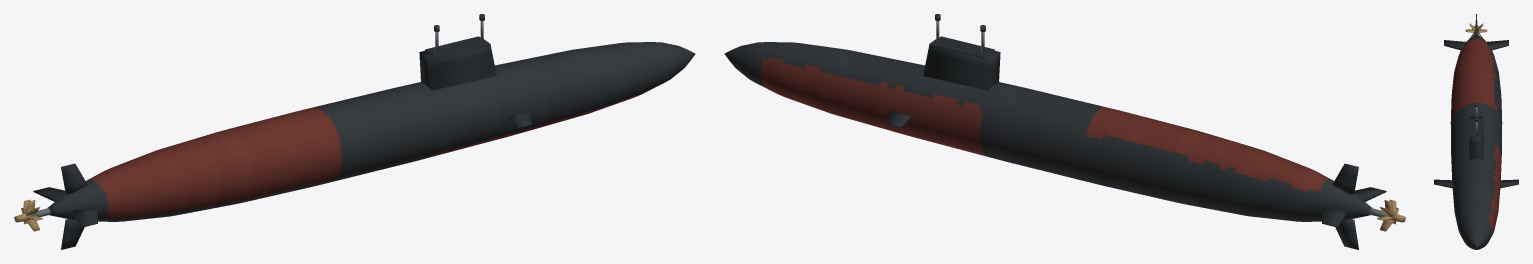
File: FR_SSN_Rubis.glb
The picture shows the model from 3 angles, left to right: view 1: azimuth 30°, elevation 25°; view 2: azimuth 150°, elevation 25°; view 3: azimuth 270°, elevation 25°; orthographic projection. The views are drawn at different scales.
Visible parts, largest first — view 1: FR_SSN_Rubis_LOD0; view 2: FR_SSN_Rubis_LOD0; view 3: FR_SSN_Rubis_LOD0.
Part boxes in pixels (x1,y1,x2,y2): FR_SSN_Rubis_LOD0: (14,14,695,249); FR_SSN_Rubis_LOD0: (724,14,1405,249); FR_SSN_Rubis_LOD0: (1434,14,1518,249).
Size of the model in its own units: 77.35 by 14.34 by 12.53.
Materials: 6 (1 with a texture image).
